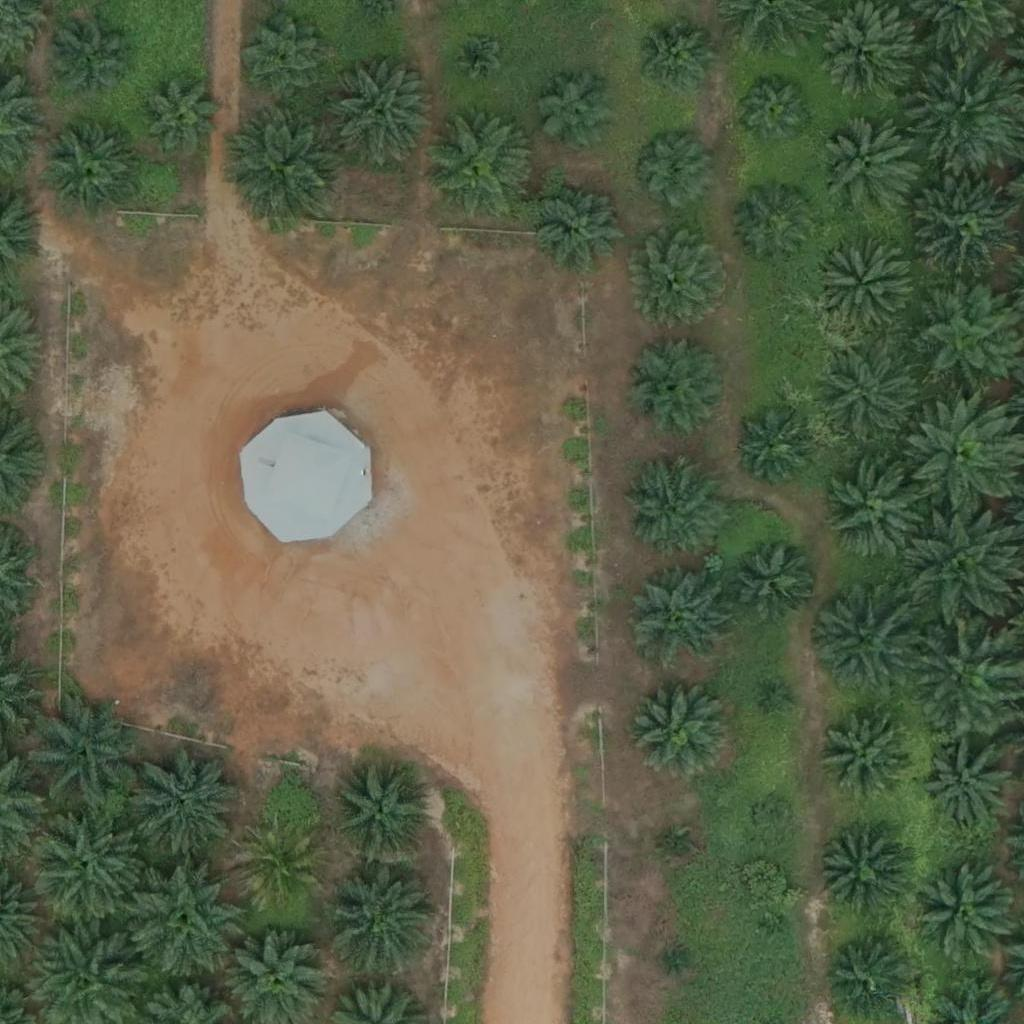Kelapa_Sawit: (808, 584, 921, 698), (132, 747, 245, 861), (130, 863, 243, 977), (30, 698, 143, 812), (231, 109, 344, 222), (423, 109, 535, 223), (908, 512, 1020, 626), (911, 618, 1023, 732), (30, 804, 142, 918), (324, 59, 436, 172), (908, 281, 1020, 394), (907, 402, 1019, 515), (327, 862, 439, 975), (621, 456, 721, 557), (813, 5, 913, 106), (819, 117, 919, 218), (814, 235, 914, 336), (914, 863, 1014, 964), (629, 567, 729, 668), (627, 675, 727, 776), (329, 762, 429, 863), (631, 230, 731, 330), (626, 337, 726, 437), (824, 349, 924, 449), (826, 462, 926, 562), (47, 127, 135, 216), (540, 182, 628, 270), (235, 825, 323, 913), (243, 17, 330, 105), (534, 67, 621, 155), (633, 17, 720, 105), (630, 126, 717, 214), (732, 181, 819, 269), (924, 741, 1011, 829), (824, 708, 911, 796), (817, 830, 904, 918), (730, 537, 817, 625), (56, 27, 131, 103), (737, 409, 812, 485), (142, 78, 217, 153), (735, 73, 810, 148), (452, 31, 502, 82), (755, 800, 793, 838), (768, 685, 793, 710), (764, 915, 789, 940), (664, 835, 689, 860), (664, 948, 689, 973)
